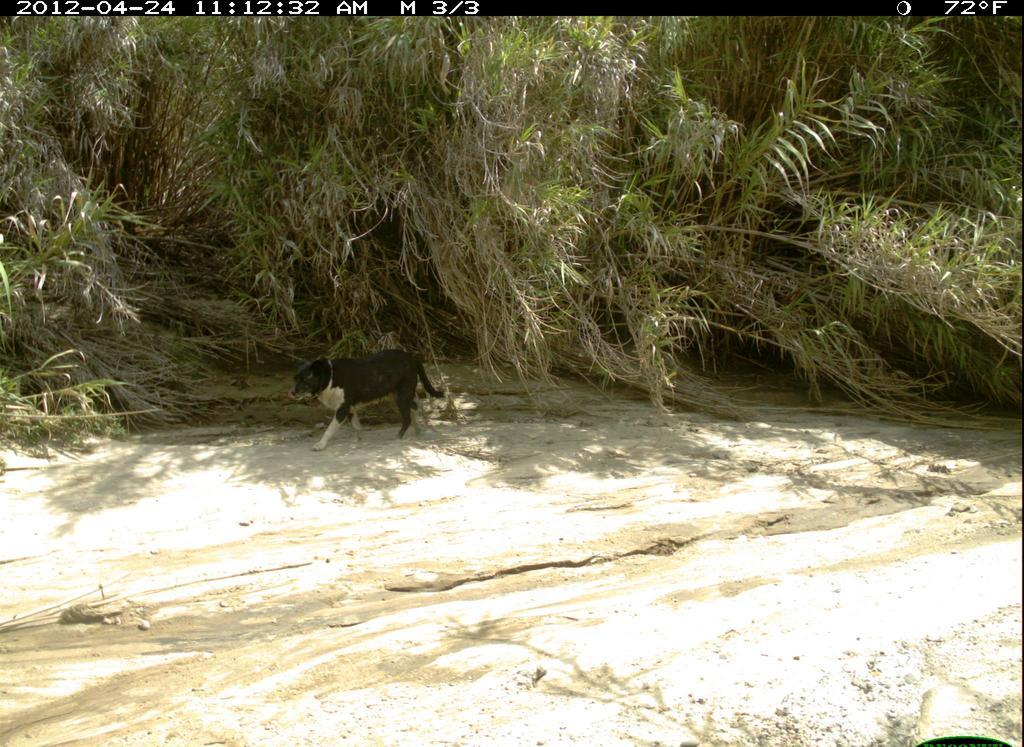dog: (272, 340, 447, 459)
